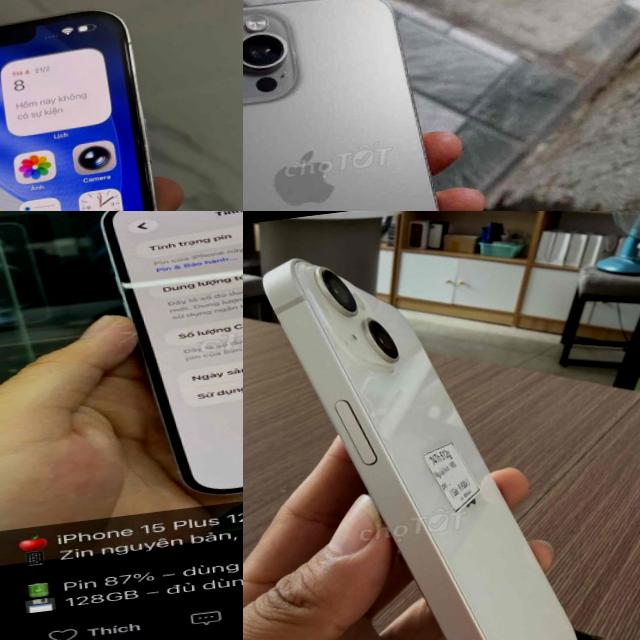gen_14: (250, 217, 599, 640)
gen_15: (243, 0, 489, 211), (79, 211, 243, 516), (0, 0, 193, 211)
